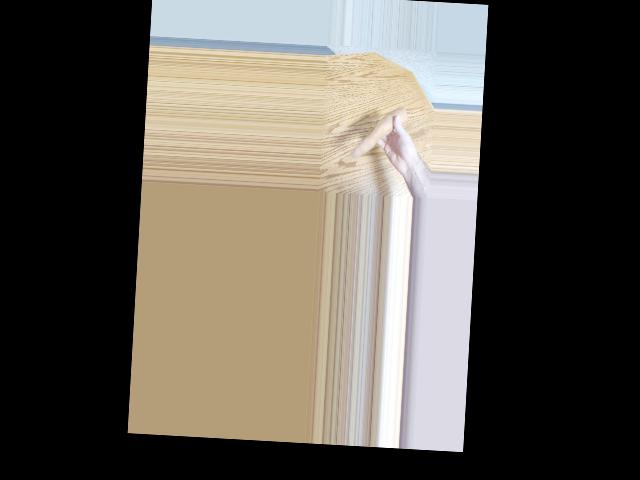sweet_potato: (351, 106, 408, 160)
